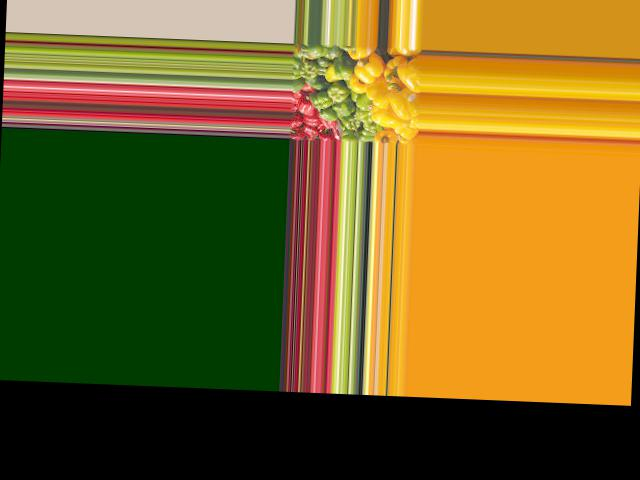bell_pepper: (293, 42, 316, 59)
